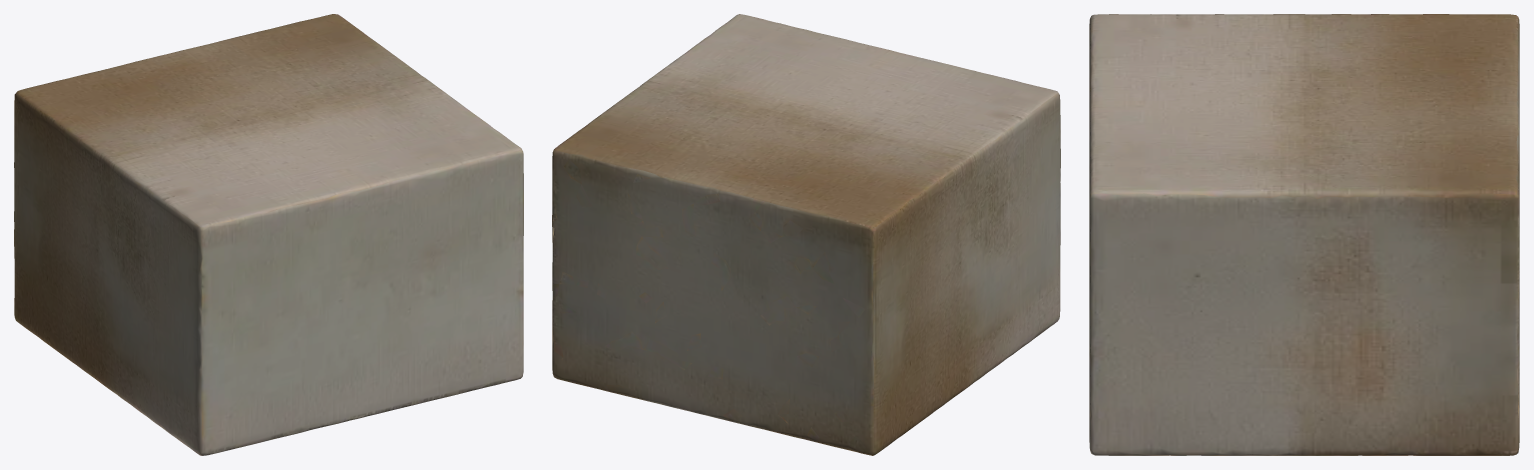
Rendered from leg2-trellis2.glb.
3 renders of one model, left to right at view 1: azimuth 30°, elevation 25°; view 2: azimuth 150°, elevation 25°; view 3: azimuth 270°, elevation 25°, orthographic. The views are drawn at different scales.
Parts seen in each view (by area): view 1: world; view 2: world; view 3: world.
Boxes of the visible parts, box(x1,y1,x2,y2) form: world: box(14, 14, 523, 455); world: box(552, 14, 1060, 455); world: box(1089, 14, 1519, 455).
Size of the model in its own units: 1 by 0.6829 by 1.
Materials: 1 (1 with a texture image).
